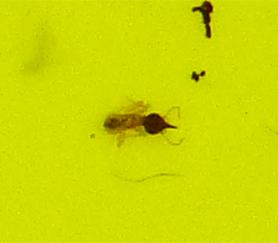Isoptera: (100, 100, 178, 143)
